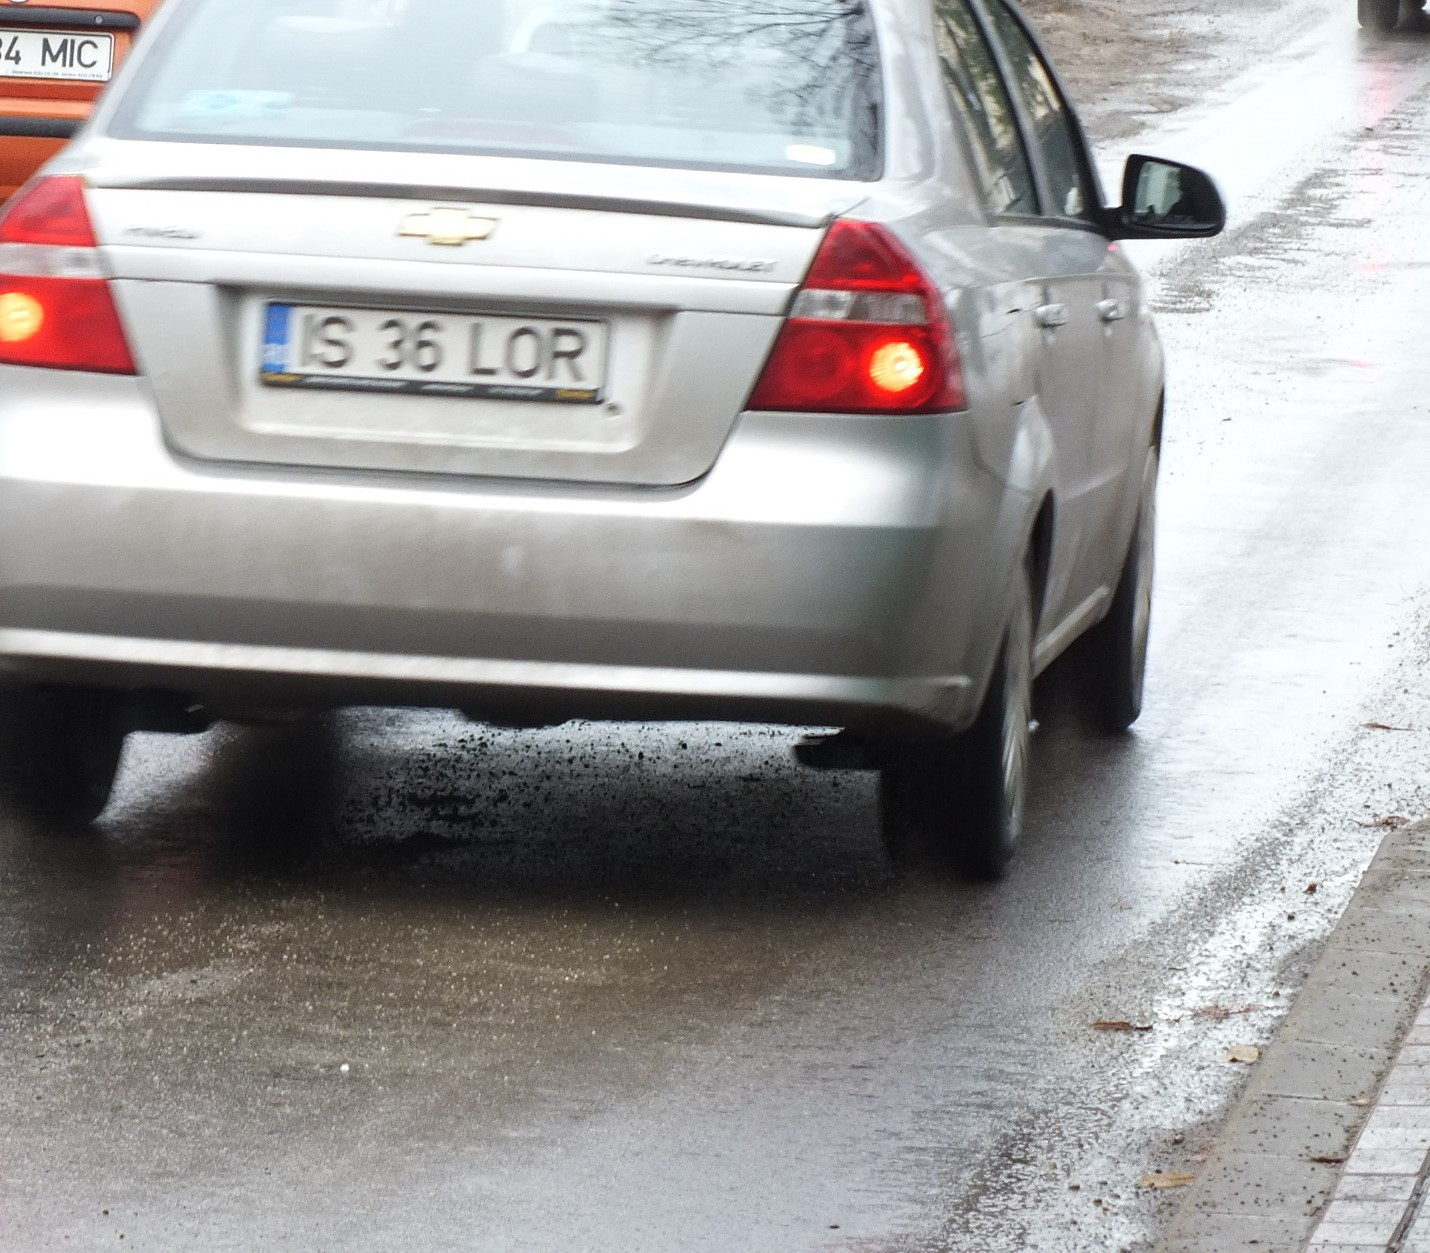IS36LOR: (250, 307, 603, 391)
